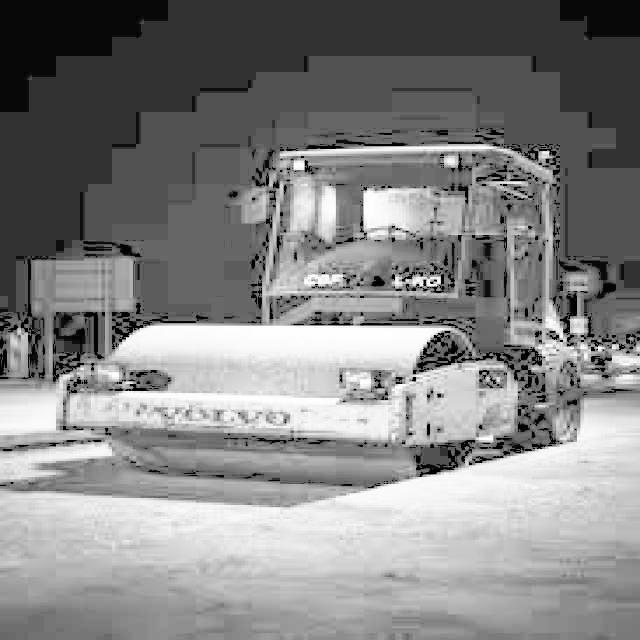Truck: (53, 142, 585, 487)
